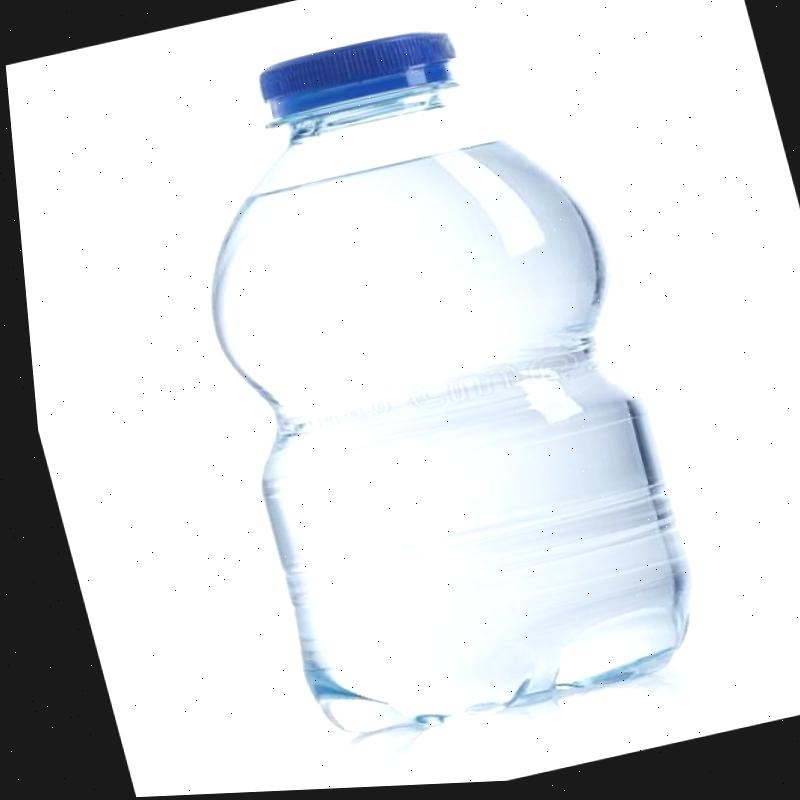botella: (149, 7, 700, 755)
